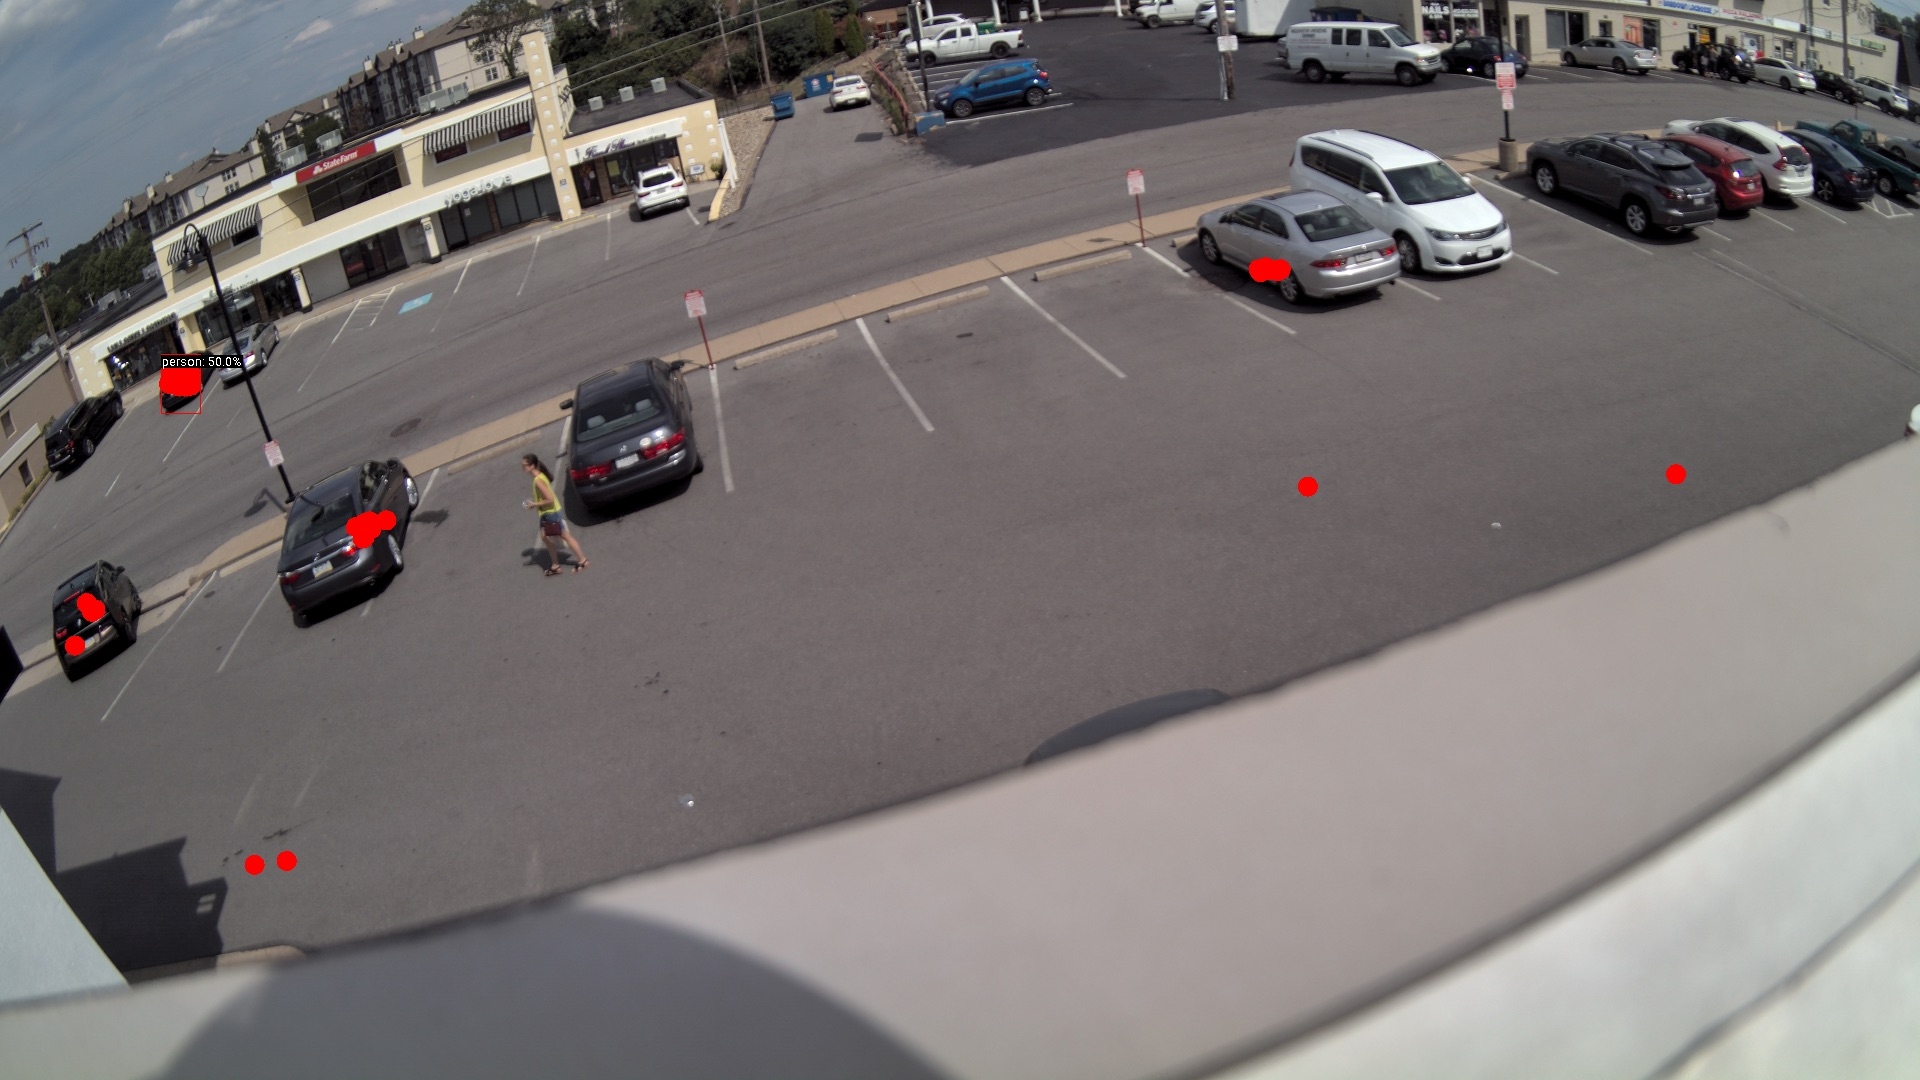person: (519, 451, 590, 579)
